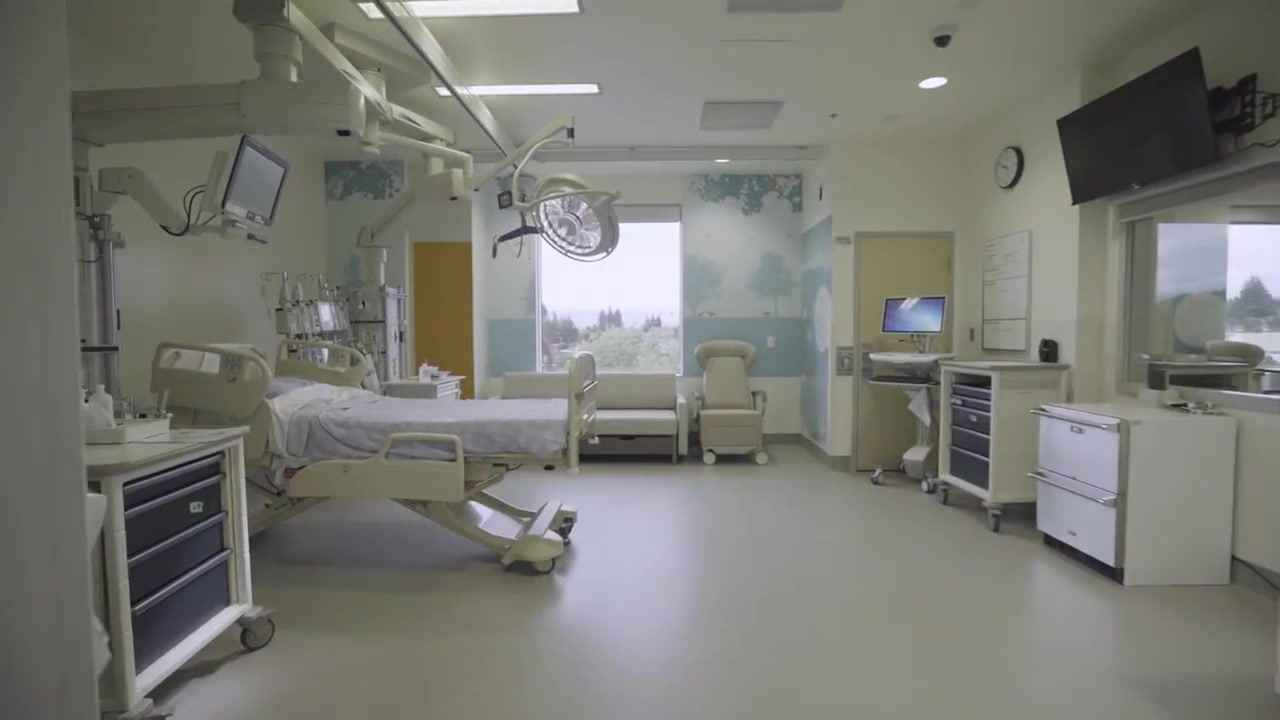TV: (1055, 45, 1218, 206)
bedrail: (287, 432, 465, 504), (150, 341, 273, 418), (274, 340, 368, 385)
bedside_monitor: (221, 134, 291, 228)
bedside_table: (381, 374, 467, 400)
chair: (691, 339, 770, 466)
computer: (880, 295, 948, 335)
countertop: (867, 351, 959, 364)
dispenser: (87, 383, 119, 440)
door_handle: (861, 366, 872, 373)
foot_board: (566, 350, 599, 478)
handle: (1026, 470, 1117, 508), (1029, 408, 1120, 433)
hospital_bed: (148, 339, 600, 576)
infusion_pump: (275, 300, 349, 335)
iv_pole: (264, 271, 310, 303), (300, 268, 334, 301)
keyboard: (868, 376, 933, 385)
medical_drawer: (83, 425, 277, 720), (936, 359, 1071, 533)
mouse: (927, 379, 941, 386)
sofa: (485, 370, 689, 466)
surgical_light: (529, 172, 622, 263)
table: (1035, 400, 1238, 586)
